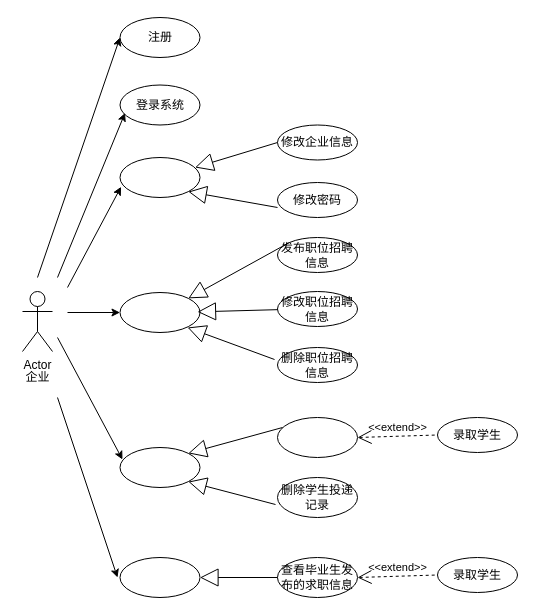
Image size: 535x615. Some labels were removed from this diagram. The shapes that lost their labels are listed below. From the top down, each one's centre as x and y in pixels, then its label:
the point at 159,177: 管理企业信息
the point at 159,312: 管理招聘信息
the point at 317,437: 查看学生投递记录
the point at 159,467: 管理投递记录
the point at 159,577: 求职信息查看
